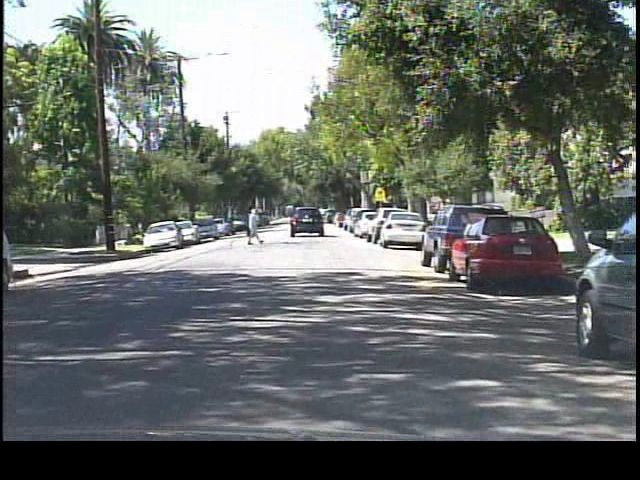person: (242, 204, 266, 246)
